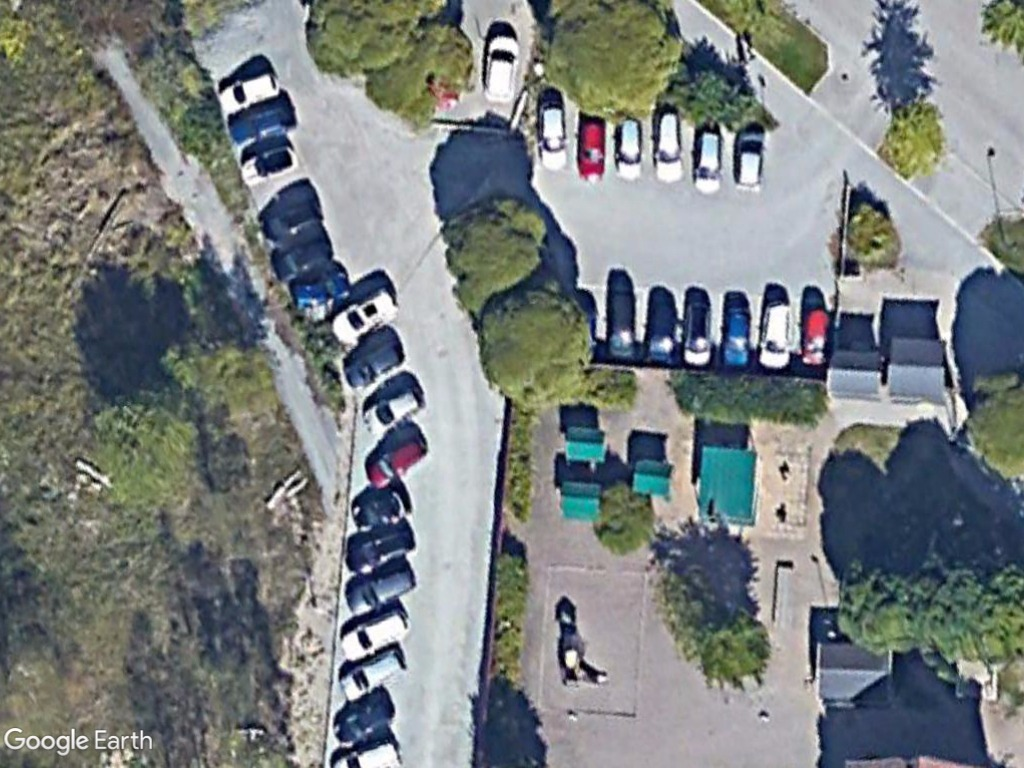car: (324, 280, 401, 352), (338, 325, 413, 396), (342, 558, 421, 621), (362, 424, 434, 492), (357, 376, 431, 442), (337, 640, 410, 706), (337, 601, 413, 661), (210, 63, 286, 120), (477, 25, 524, 110), (648, 103, 689, 192), (754, 293, 798, 373), (534, 94, 575, 177), (728, 120, 770, 194), (715, 299, 755, 375), (689, 118, 725, 196), (575, 104, 609, 181), (612, 107, 646, 184)
